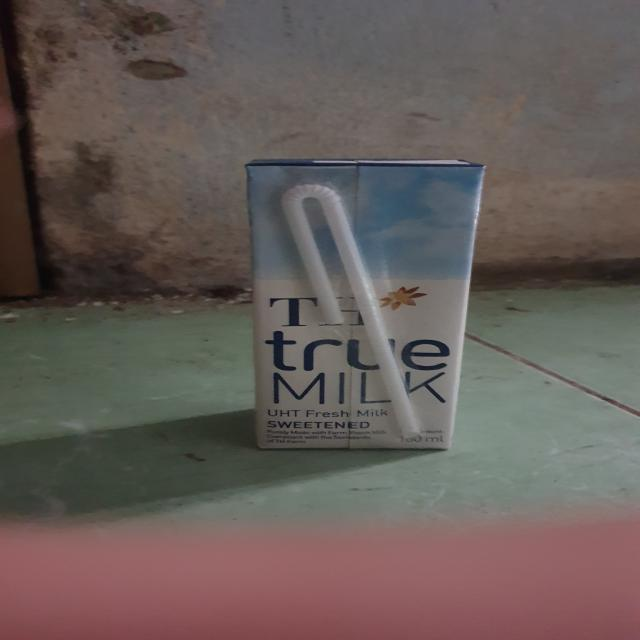TH: (245, 157, 481, 453)
